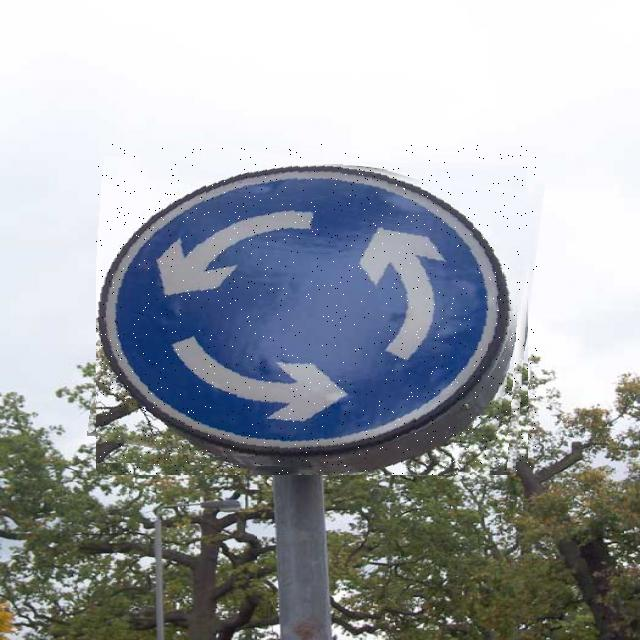roundabout: (96, 144, 537, 475)
